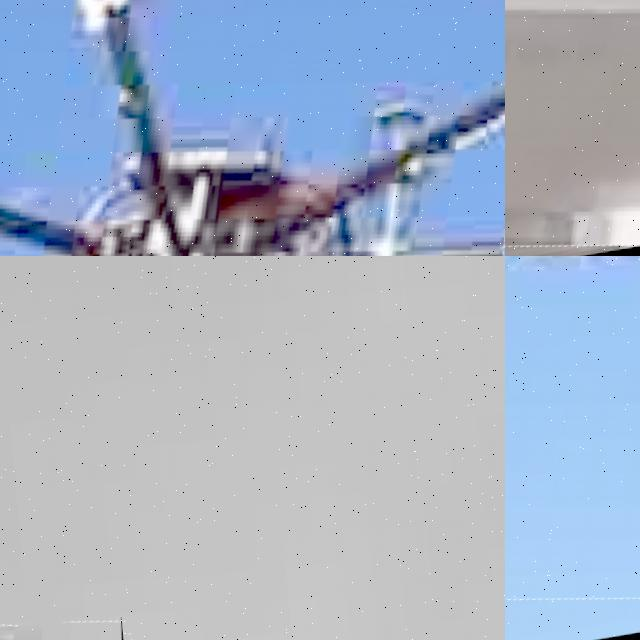drone: (0, 0, 505, 256), (505, 256, 640, 640), (505, 0, 640, 256)
